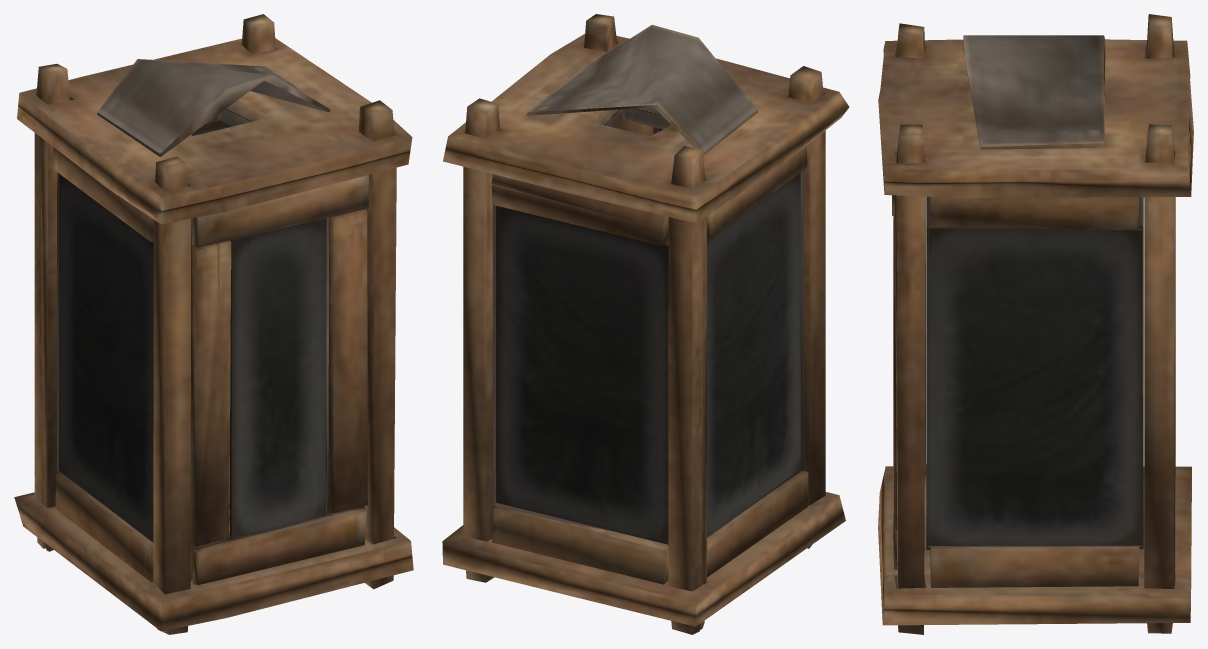
File: lantern.glb
The picture shows the model from 3 angles, left to right: view 1: azimuth 30°, elevation 25°; view 2: azimuth 150°, elevation 25°; view 3: azimuth 270°, elevation 25°; orthographic projection. The views are drawn at different scales.
Parts seen in each view (by area): view 1: lantern; view 2: lantern; view 3: lantern.
Boxes of the visible parts, x1,y1,x2,y2 form: lantern: [14, 14, 413, 634]; lantern: [442, 14, 849, 634]; lantern: [878, 14, 1193, 634].
Bounding box in the file's own units: 0.218 × 0.4006 × 0.2146.
2 materials, 2 textured.
